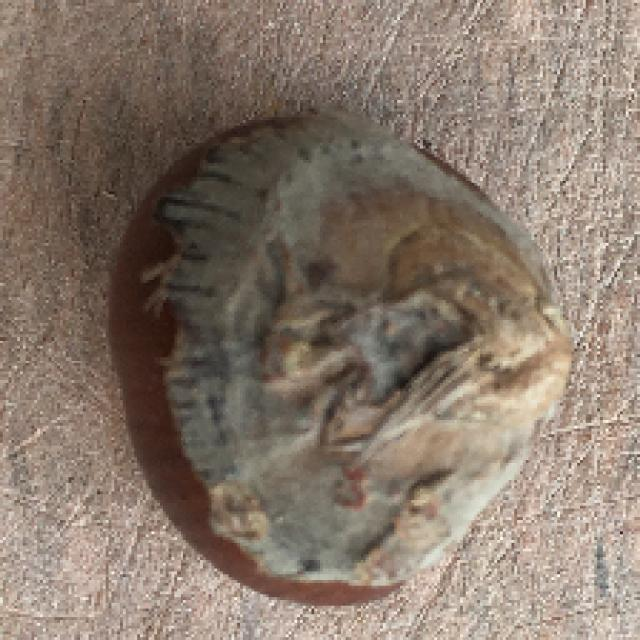damagedHazelnut: (110, 104, 584, 618)
